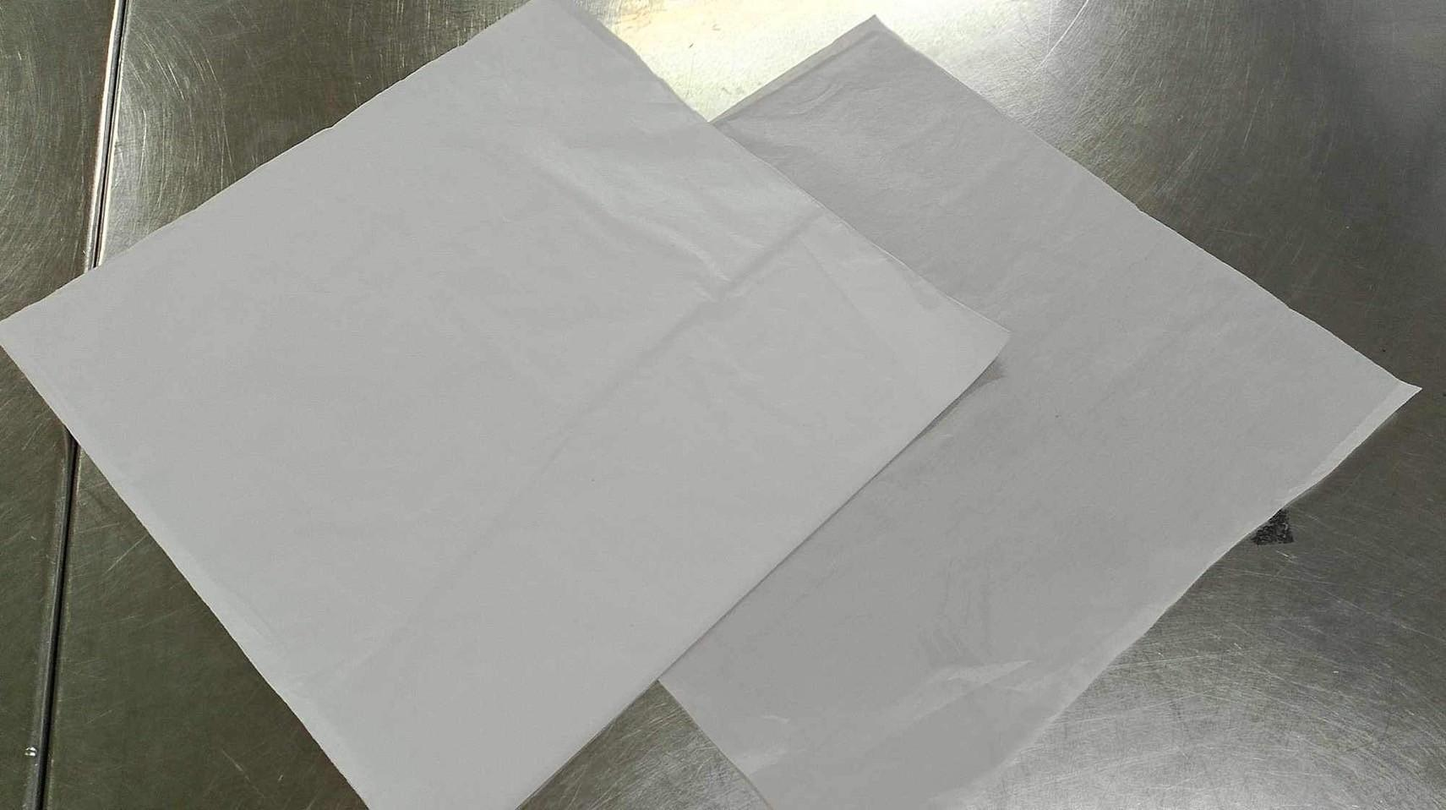Infectious: (1, 1, 1013, 807)
